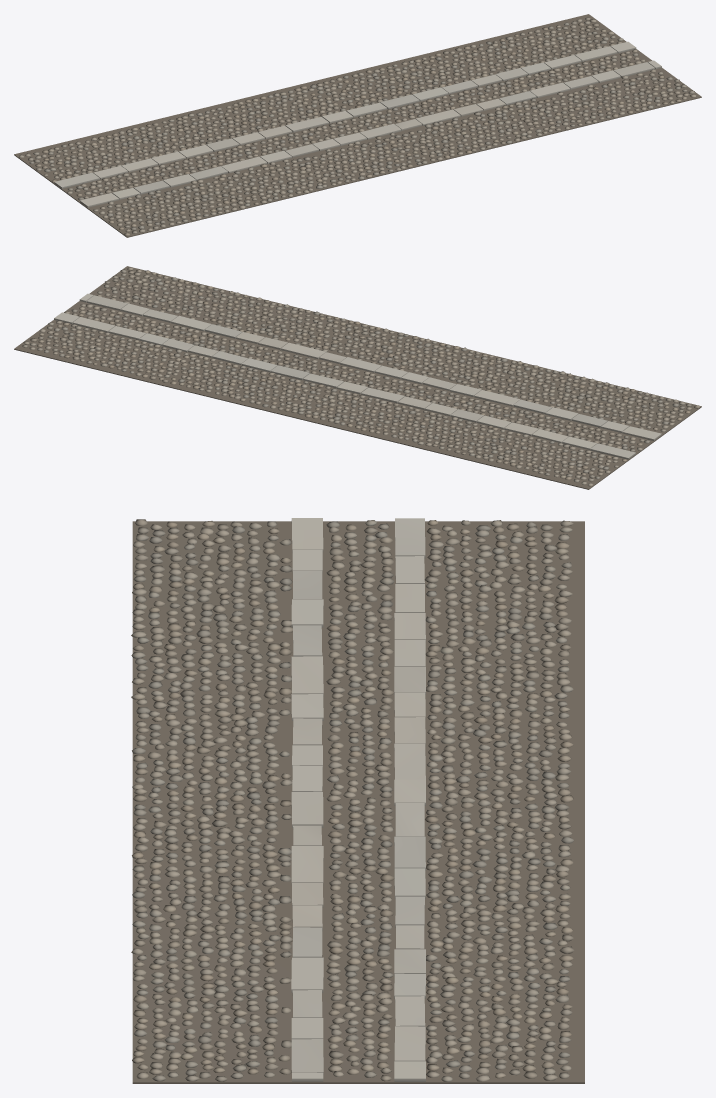
Rendered from via_selciato.glb.
The picture shows the model from 3 angles, top to bottom: view 1: azimuth 30°, elevation 25°; view 2: azimuth 150°, elevation 25°; view 3: azimuth 270°, elevation 25°; orthographic projection. The views are drawn at different scales.
Visible parts, largest first — view 1: via_selciato; view 2: via_selciato; view 3: via_selciato.
Boxes of the visible parts, x1,y1,x2,y2 form: via_selciato: (14, 14, 701, 237); via_selciato: (14, 266, 701, 489); via_selciato: (131, 518, 584, 1083).
Bounding box in the file's own units: 22.02 × 0.1334 × 7.53.
